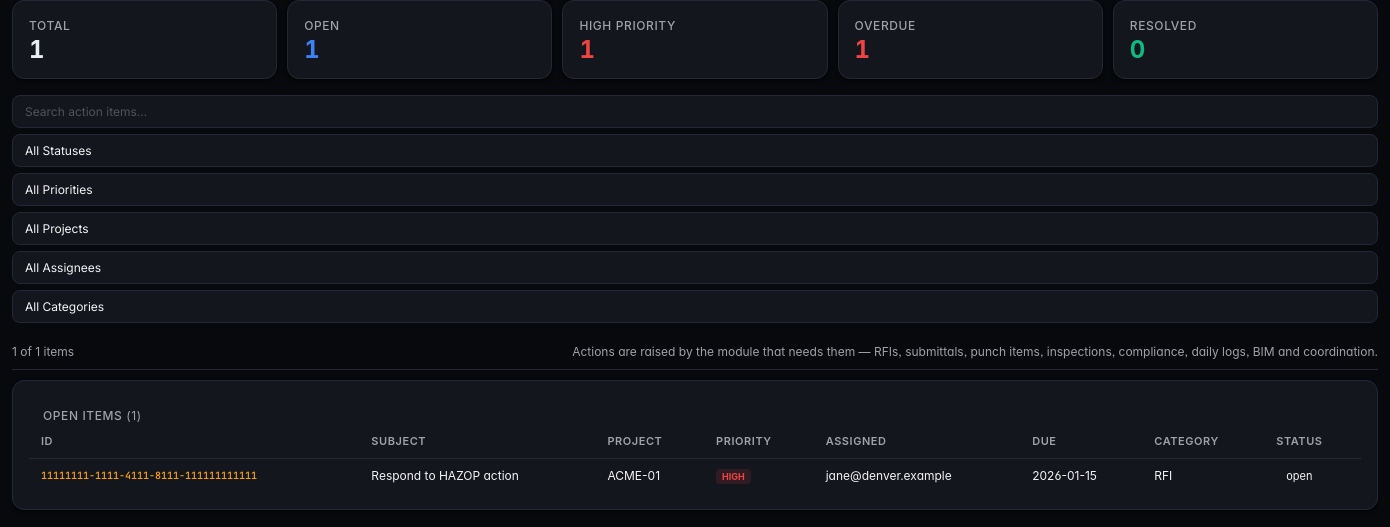
Scenario: the view answers from the record, not from the request › writes the change back into the list it came from
What coordinates should you click on to do the following:
click the text "Respond to HAZOP action"
I would click on:
 (477, 475)
Its box is [359, 458, 595, 493].
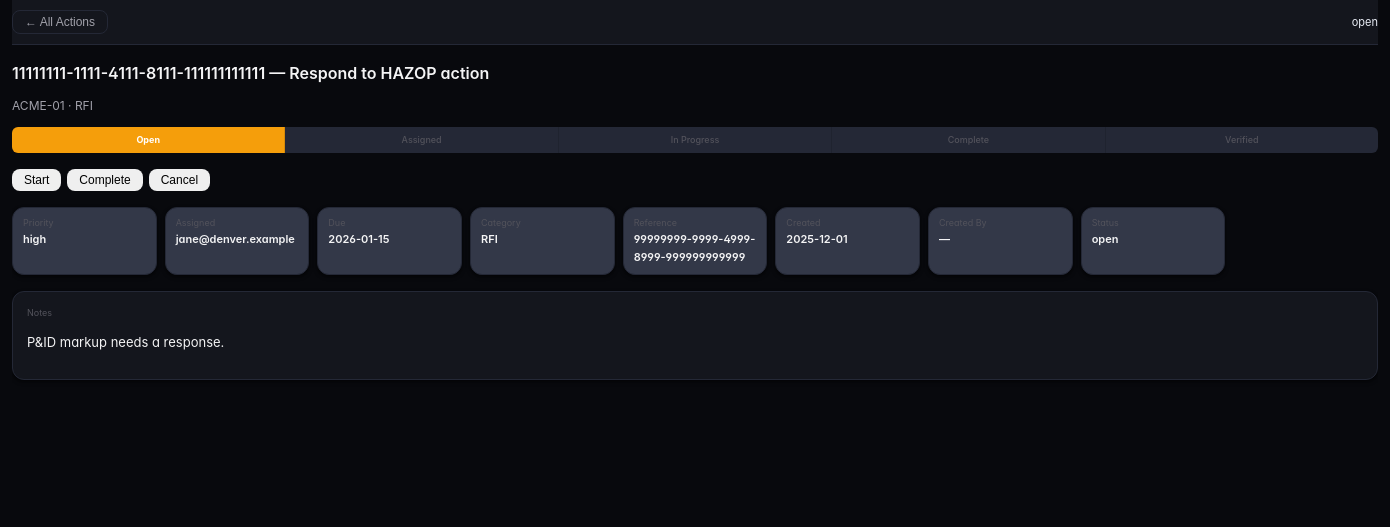
Check: the button "← All Actions" is shown, box [12, 10, 108, 34]
What coordinates should you click on to do the following:
click the button "Complete"
I would click on:
 (105, 180)
Its box is [67, 168, 143, 190].
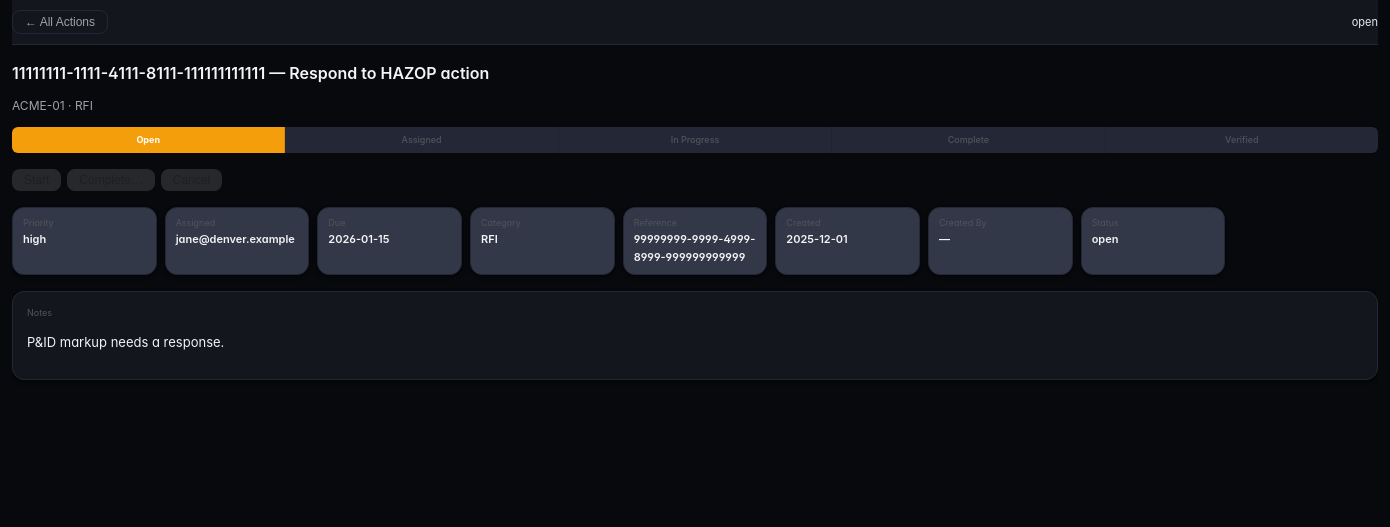
What coordinates should you click on to do the following:
click the button "← All Actions"
I would click on:
 (60, 22)
Its box is [12, 10, 108, 34].
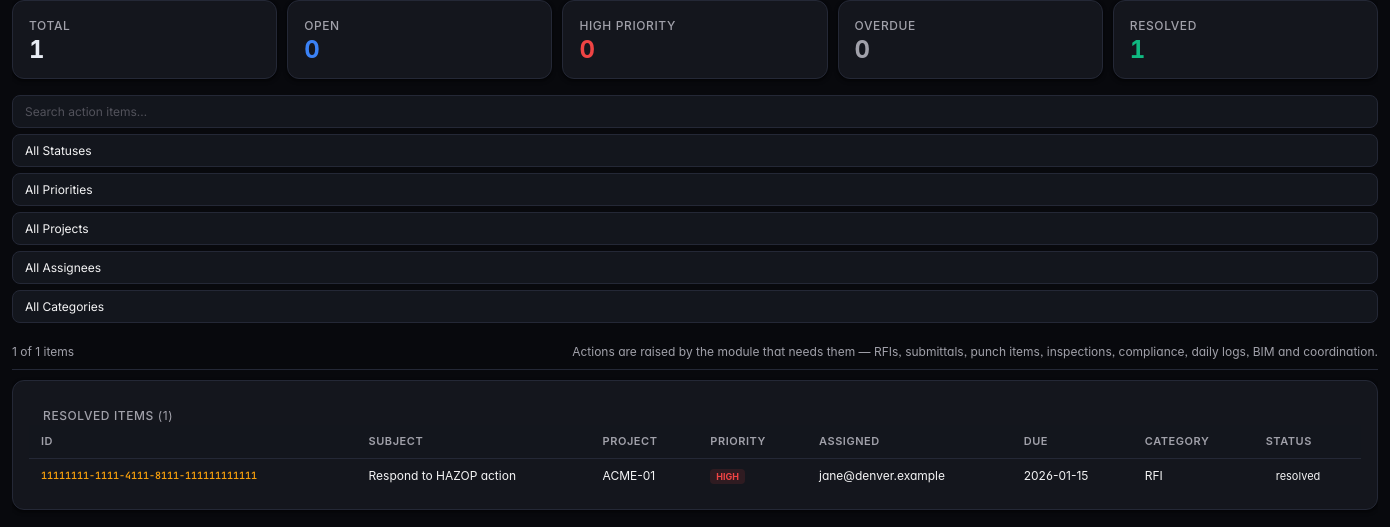
Check: the table named "Resolved Items" shows "Respond to HAZOP action", box [368, 468, 516, 483]
